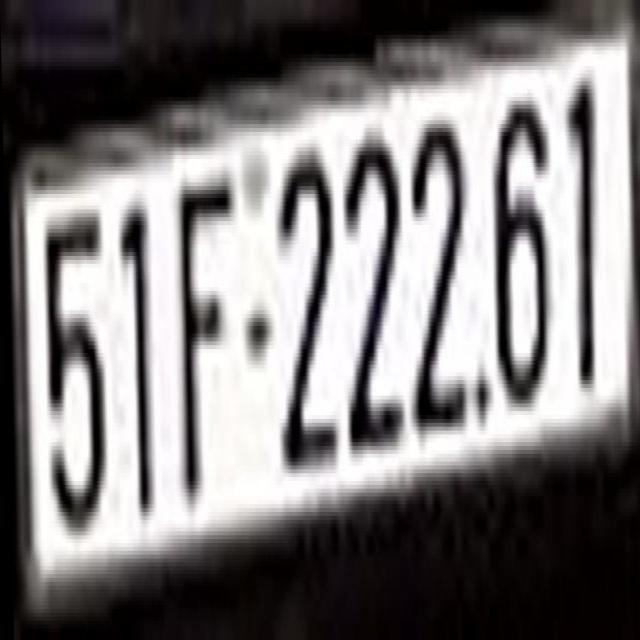1: (561, 66, 598, 403), (118, 190, 155, 524)
2: (406, 105, 470, 442), (271, 155, 339, 469), (339, 140, 404, 458)
5: (41, 206, 106, 520)
6: (486, 85, 552, 423)
F: (171, 170, 237, 504)
